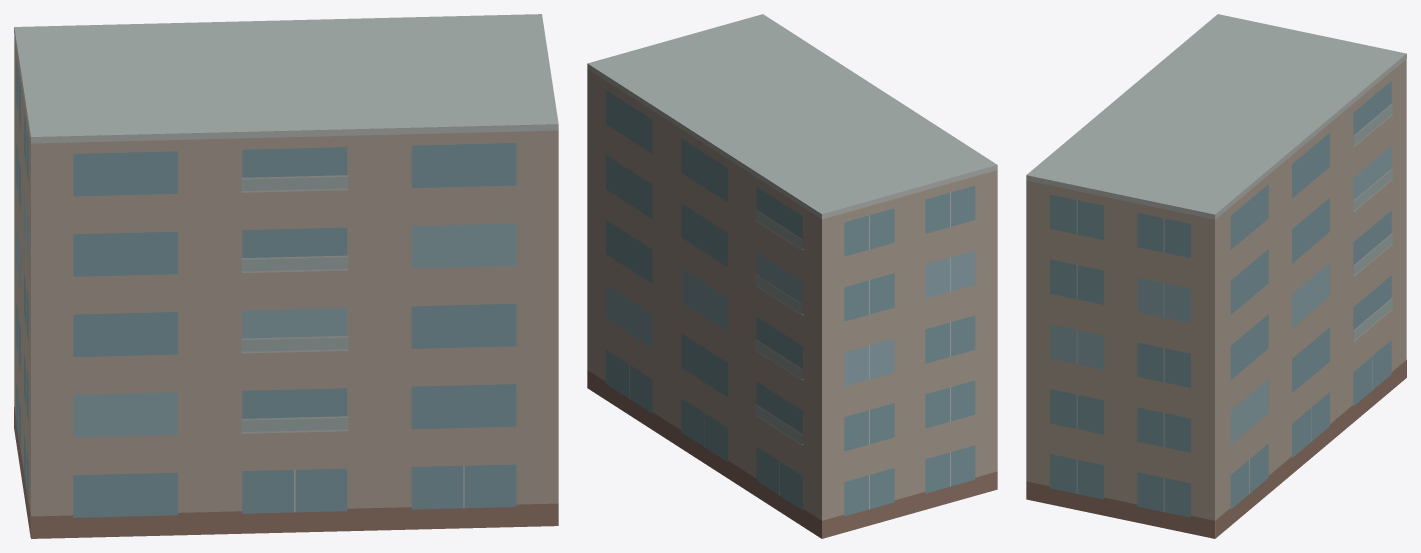
The model's file is survey-upis-32524632.glb.
The picture shows the model from 3 angles, left to right: view 1: azimuth 30°, elevation 25°; view 2: azimuth 150°, elevation 25°; view 3: azimuth 270°, elevation 25°; orthographic projection. The views are drawn at different scales.
Visible parts, largest first — view 1: survey-upis-32524632.tmp; view 2: survey-upis-32524632.tmp; view 3: survey-upis-32524632.tmp.
Boxes of the visible parts, x1=… form: survey-upis-32524632.tmp: x1=14, y1=14, x2=558, y2=538; survey-upis-32524632.tmp: x1=587, y1=14, x2=997, y2=538; survey-upis-32524632.tmp: x1=1026, y1=14, x2=1406, y2=538.
Bounding box in the file's own units: 20.24 × 15.25 × 16.23.
